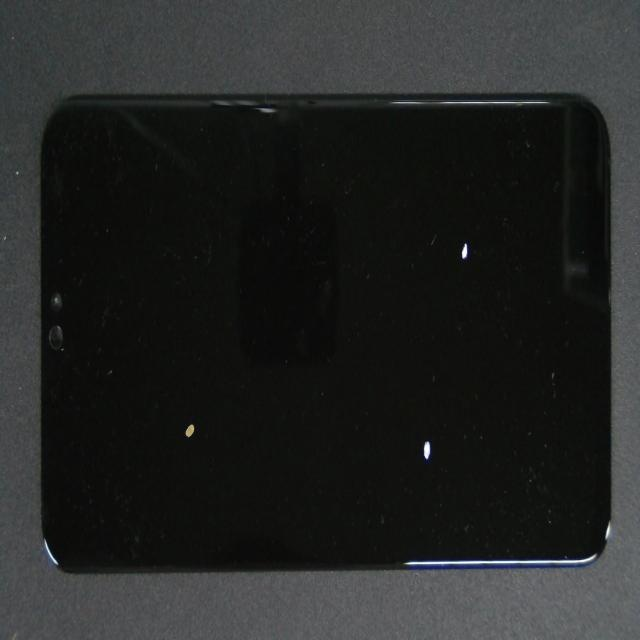stain: (241, 195, 640, 640), (244, 156, 640, 354), (111, 214, 302, 619)
